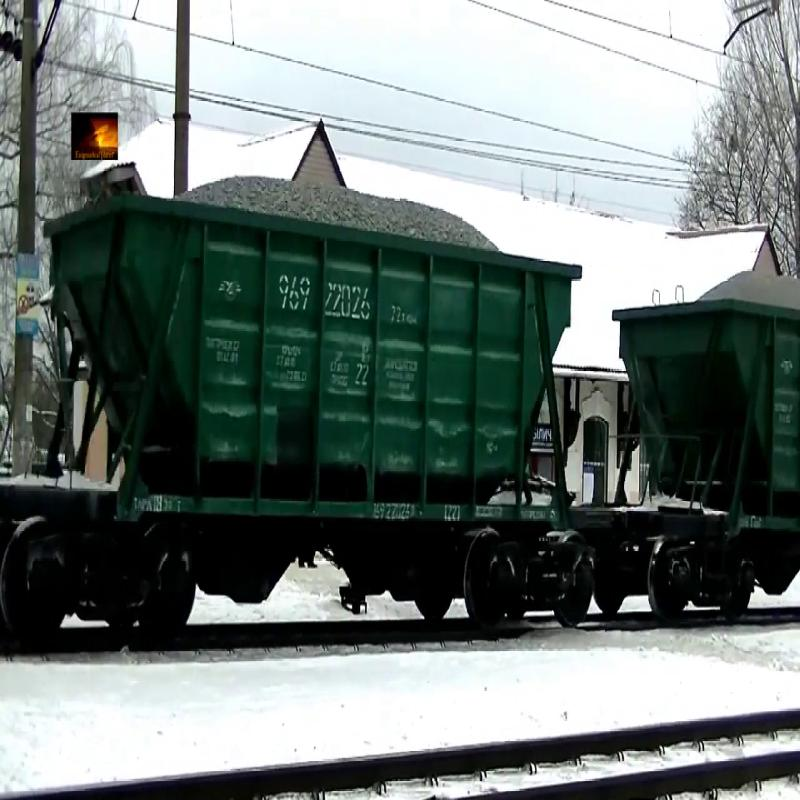train: (47, 176, 578, 627), (615, 264, 799, 647)
